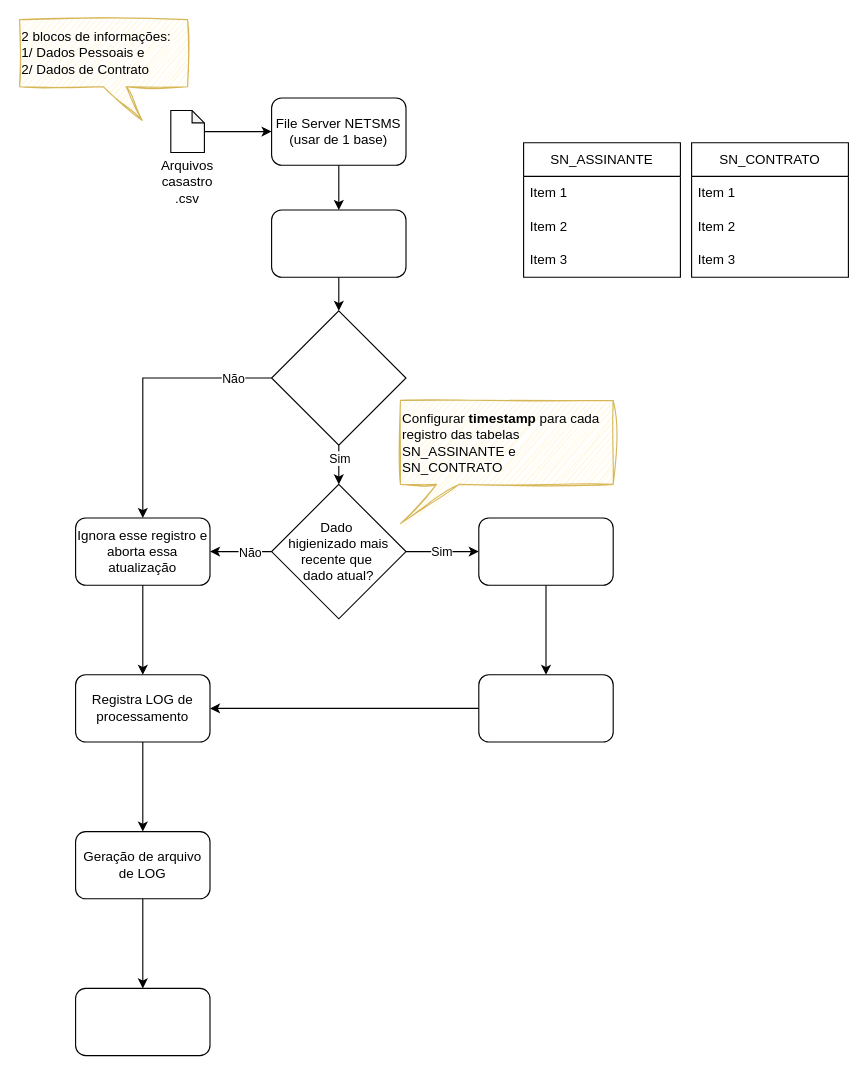
The diagram is 868 pixels wide and 1075 high, and some of its shapes have lost their labels. Each missing label, with the centre of its shape:
"Atualiza informações em todas as bases que o cliente tem cadastro" goes at (545,551).
"Cadastro de Cliente encontrado em alguma base?" goes at (338,377).
"Envio arquivo ao DWH" goes at (142,1021).
"Gera ocorrência de higienização em cada contrato" goes at (545,708).
"JOB faz leitura de Arquivos Higienizados .csv" goes at (338,243).
